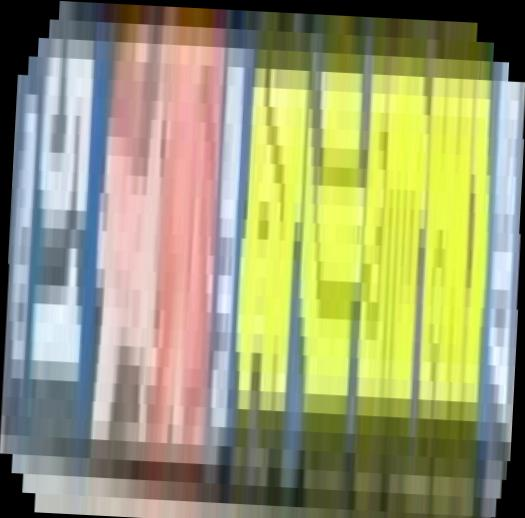flat: (1, 1, 525, 518)
